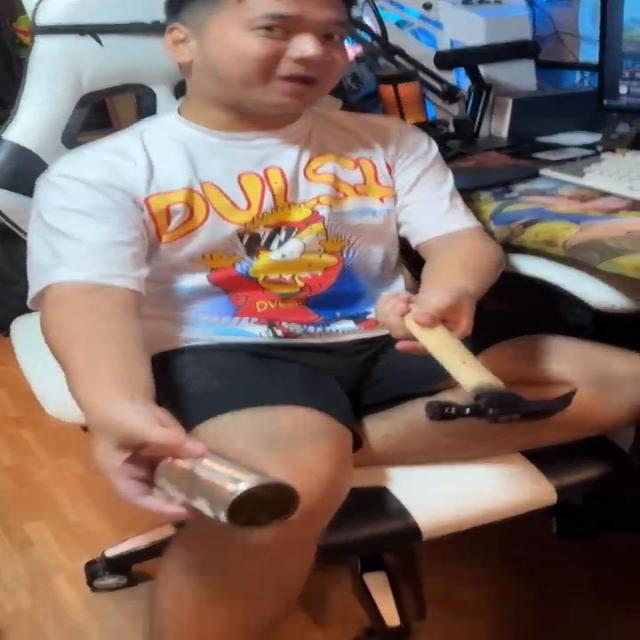hammer: (377, 293, 580, 424)
